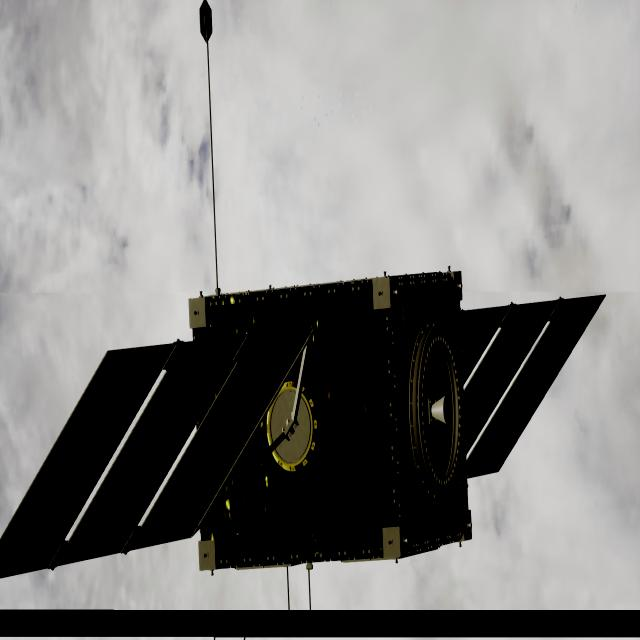medium_debris: (0, 272, 603, 580)
